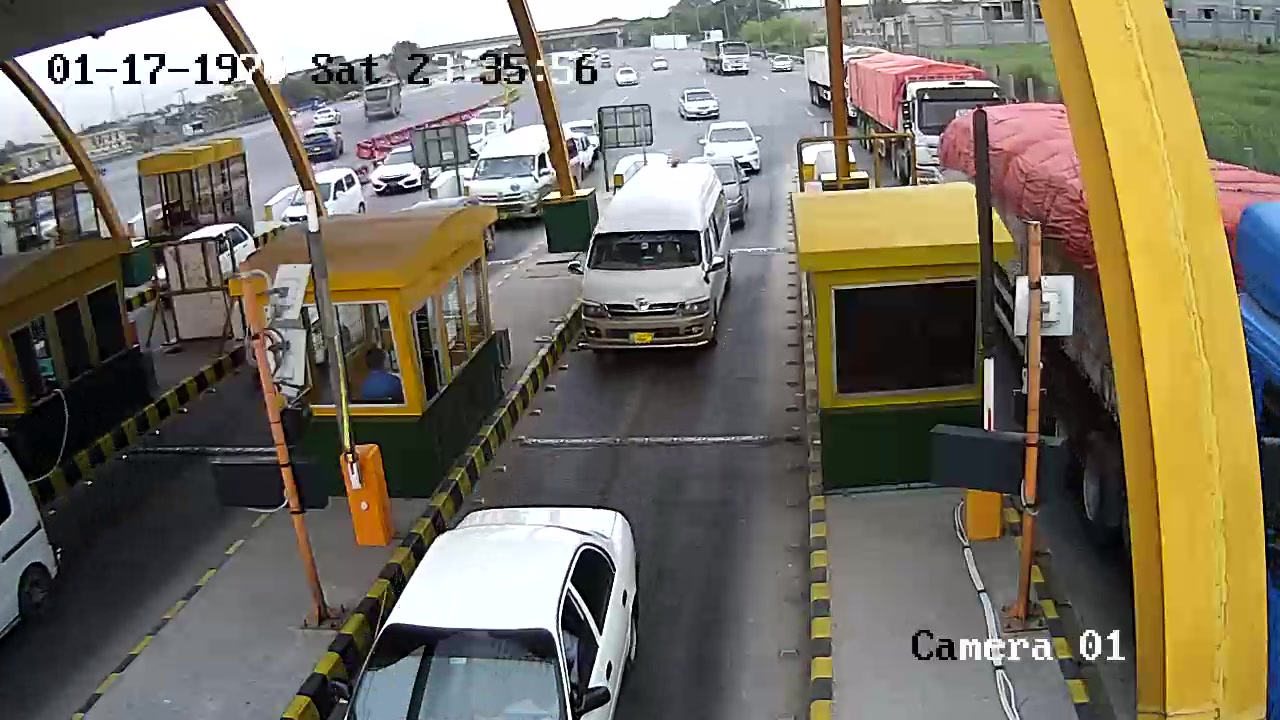F2: (574, 150, 743, 370)
